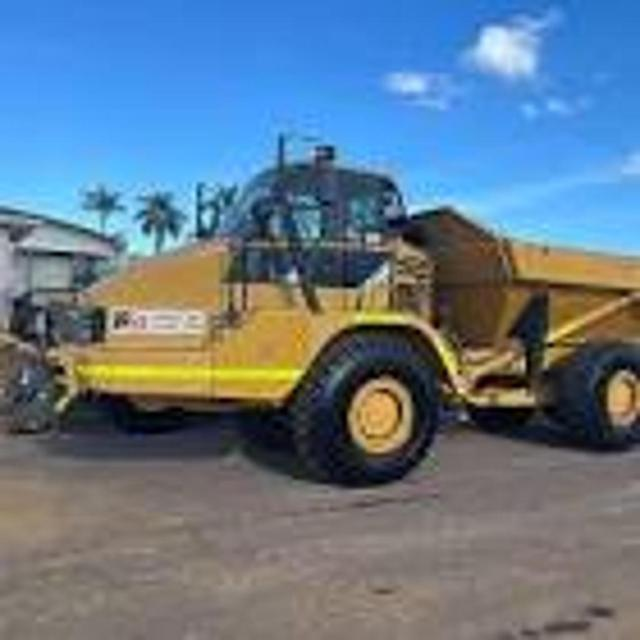dump_truck: (11, 136, 640, 483)
